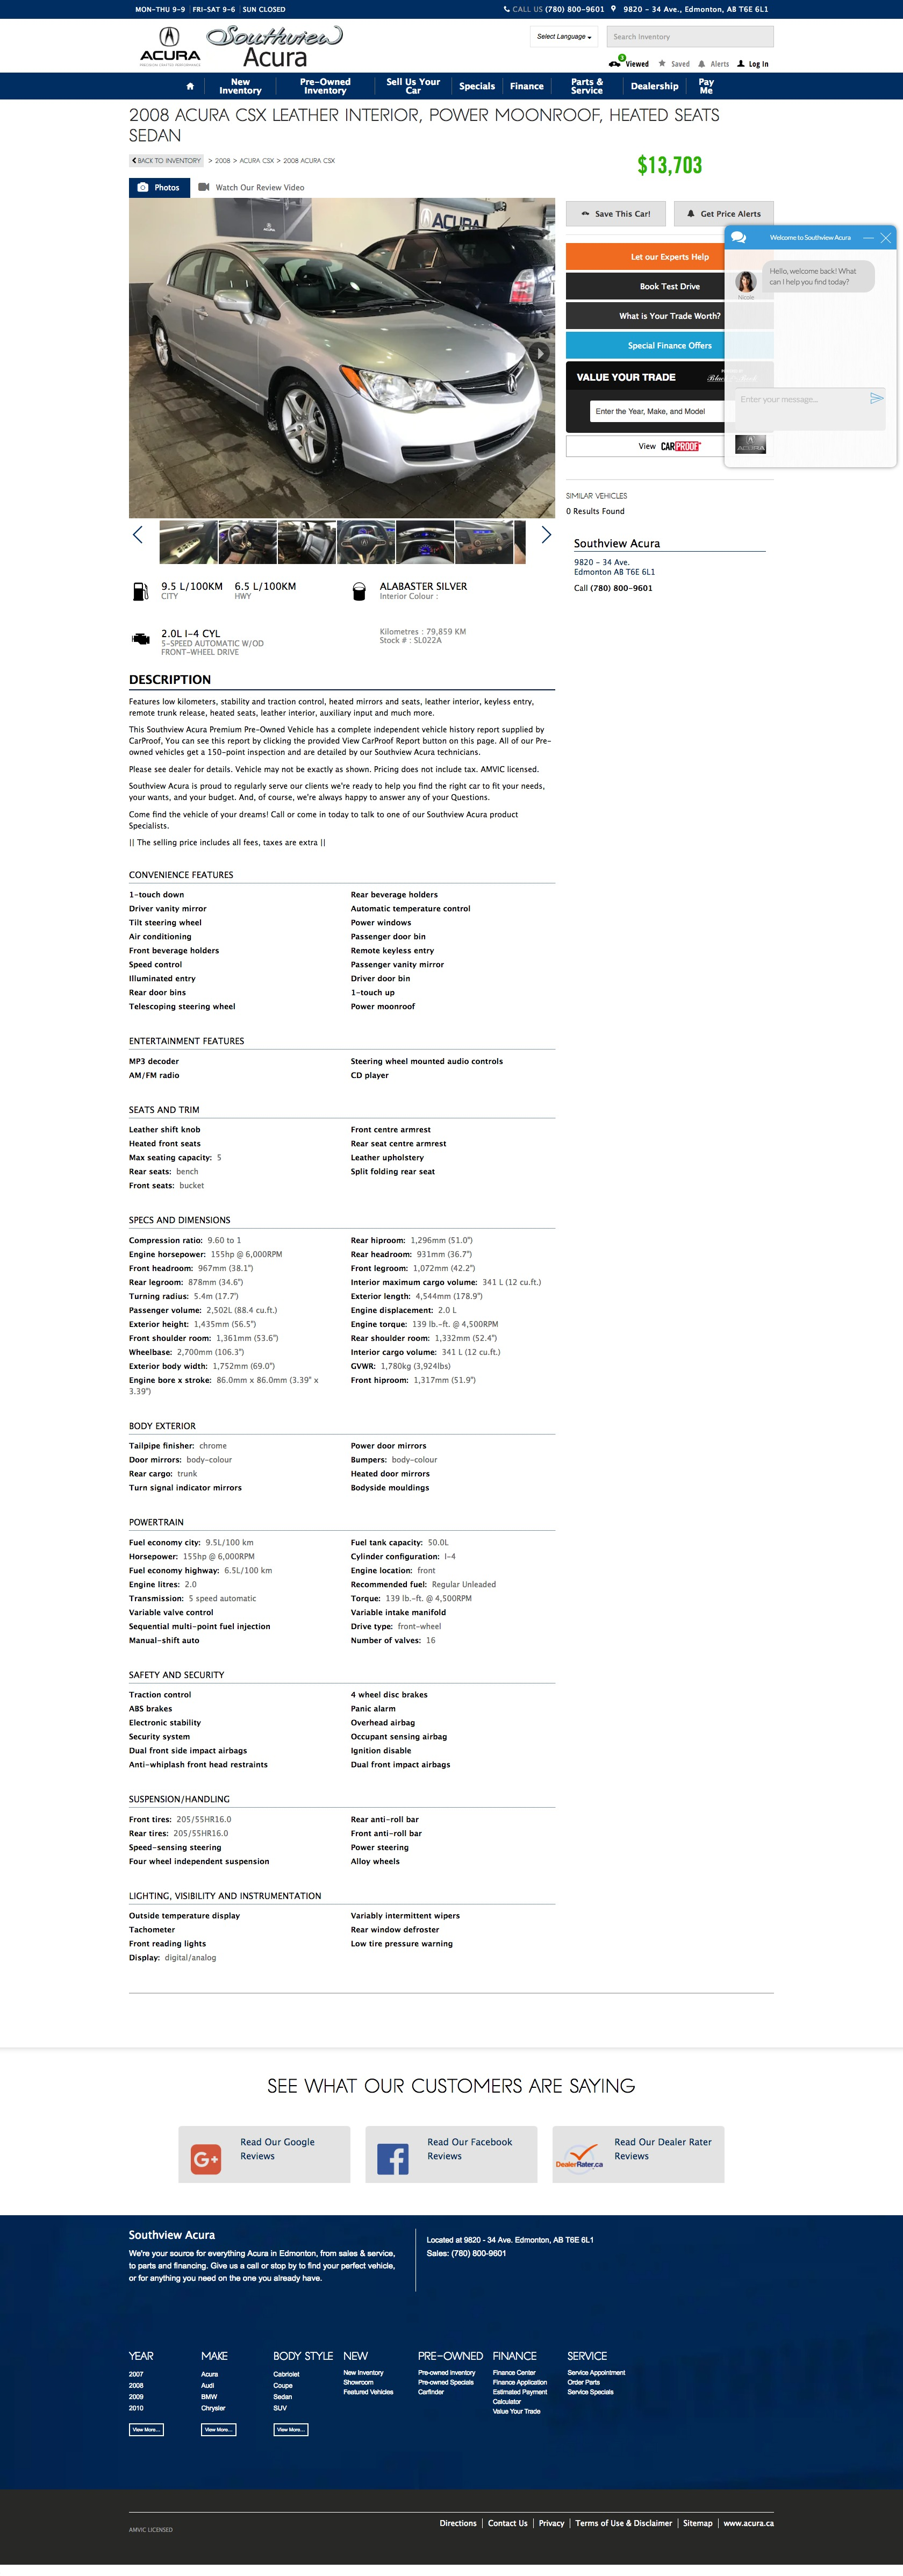car: (540, 524, 553, 545)
